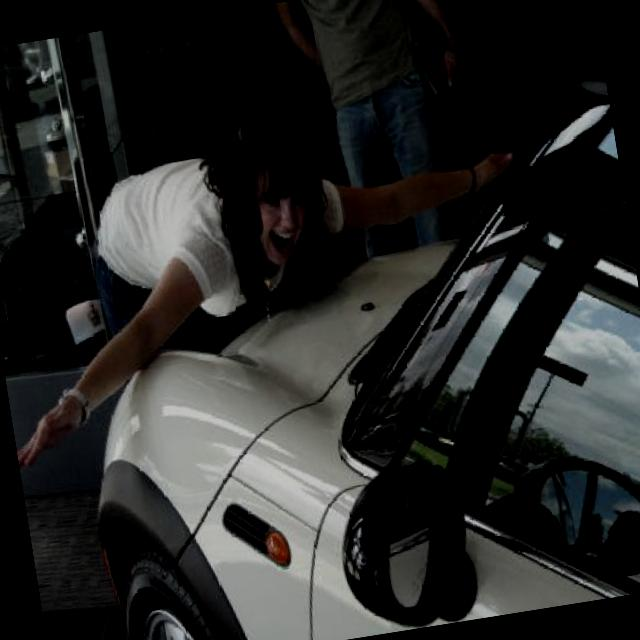Person: (0, 64, 545, 463), (277, 0, 522, 264)
